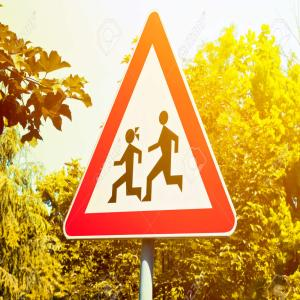SCHOOL CROSSING: (64, 15, 240, 239)
